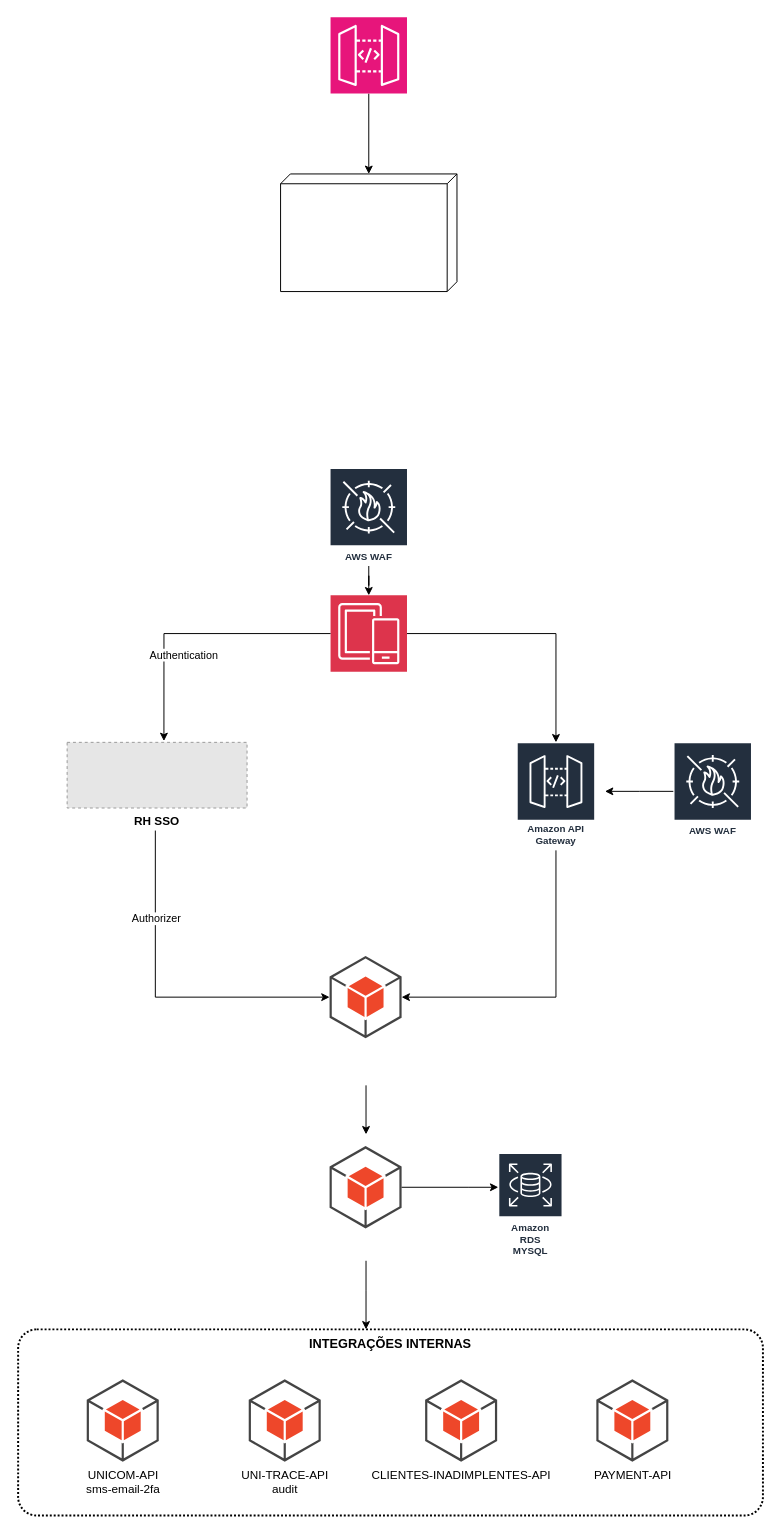
Some shapes in this 780 by 1534 pixel diagram are drawn without their labels. Grey dashed boxes stand in for pictures. The centre of each missing label's shape, as x and y in pixels:
BackForFront (BFF) Portal Negociação de Débitos: (365,996)
BusinessServiceApi Portal Negociação de Débitos: (365,1186)
ec2 Cluster eks: (368,232)
FrontEnd VUEJS Portal Negociação de Débitos: (368,633)
